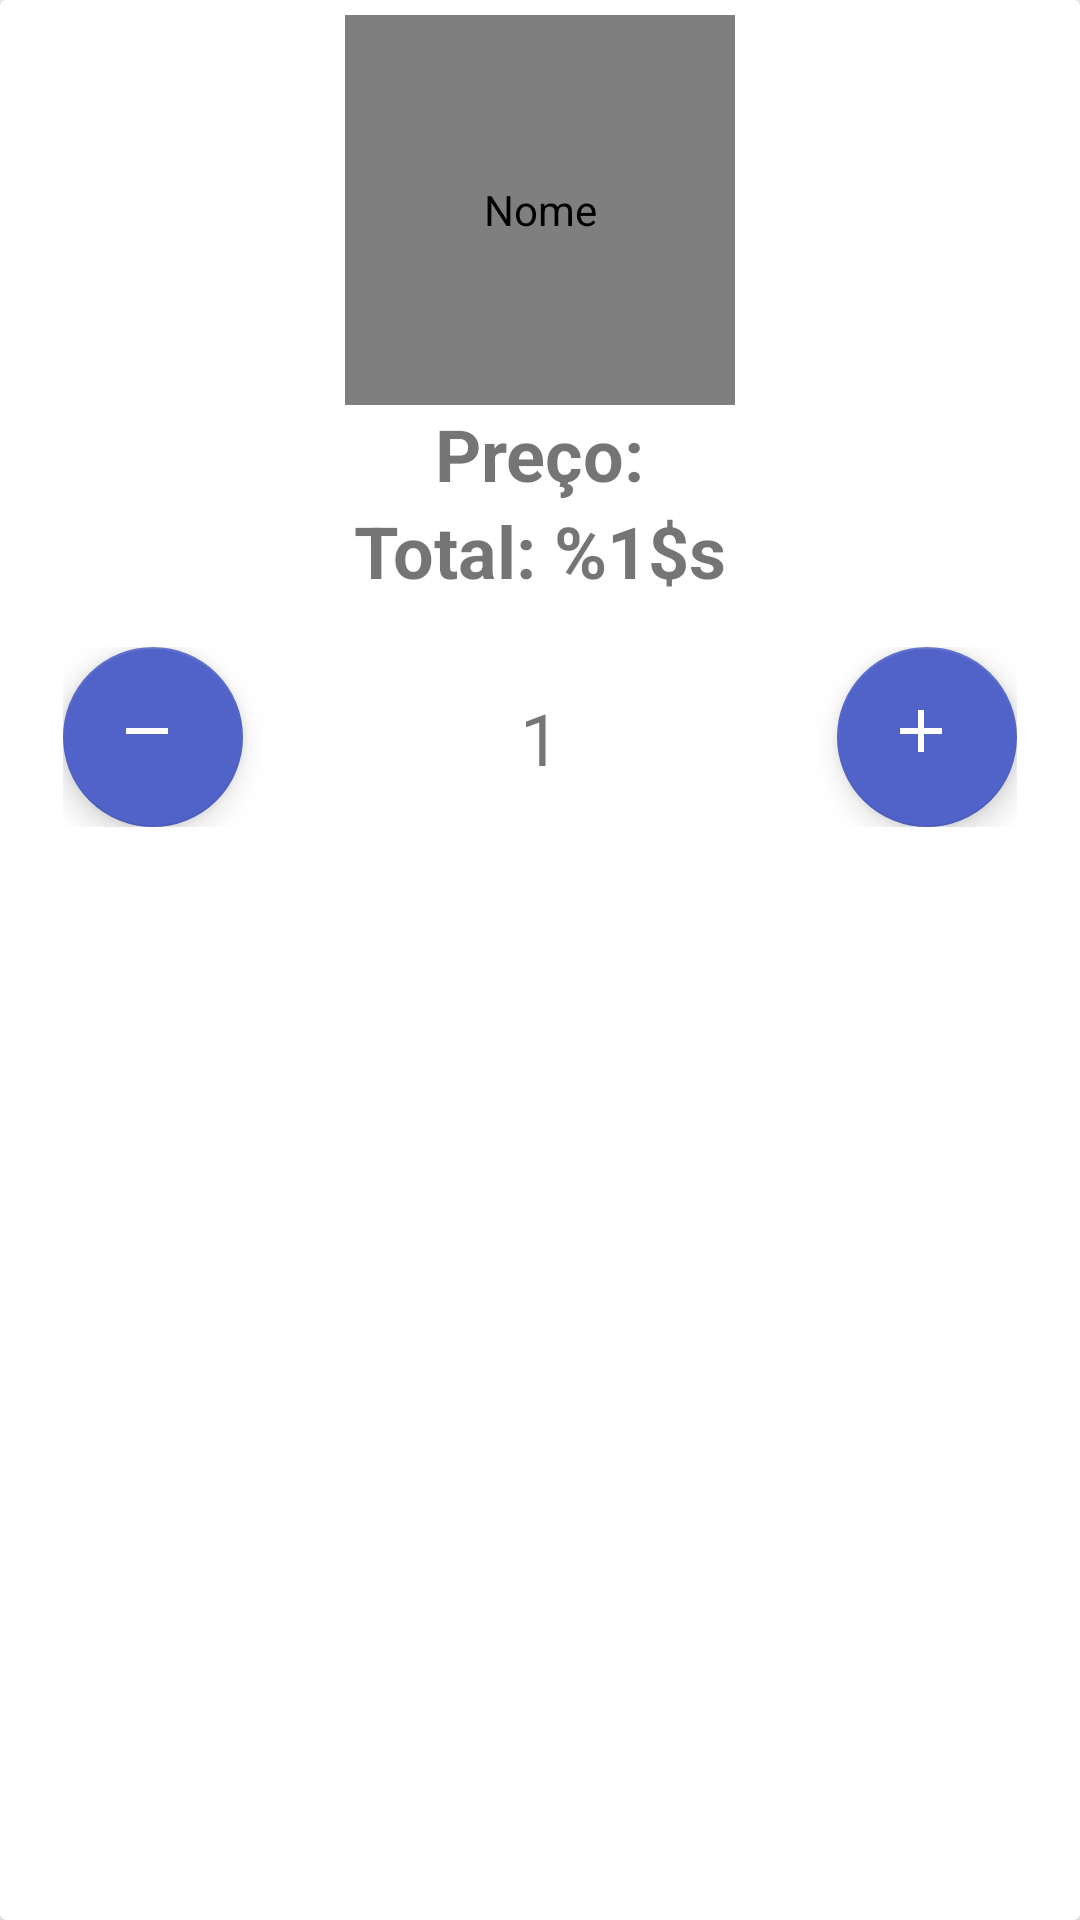

Icon bounding boxes for this 1080 x 1920 phone screenshot, format (x1, y1, x2, y2):
add: (837, 647, 1017, 827)
remove: (63, 647, 243, 827)
